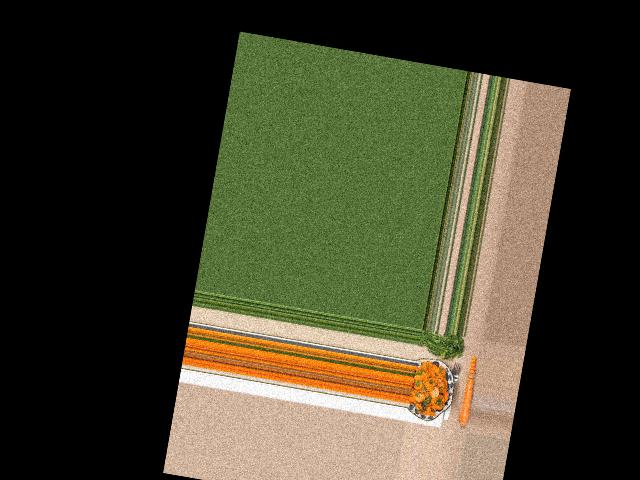carrot: (459, 378, 477, 428)
